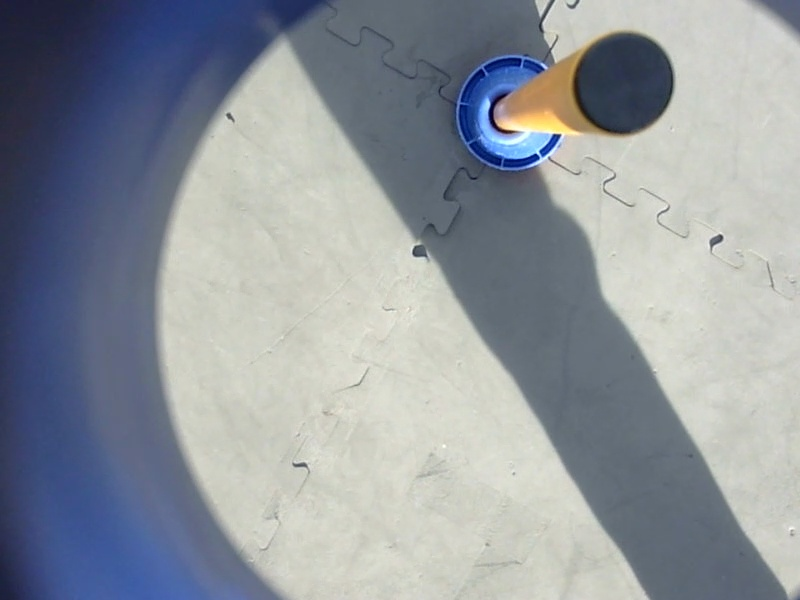tip: (562, 25, 682, 141)
